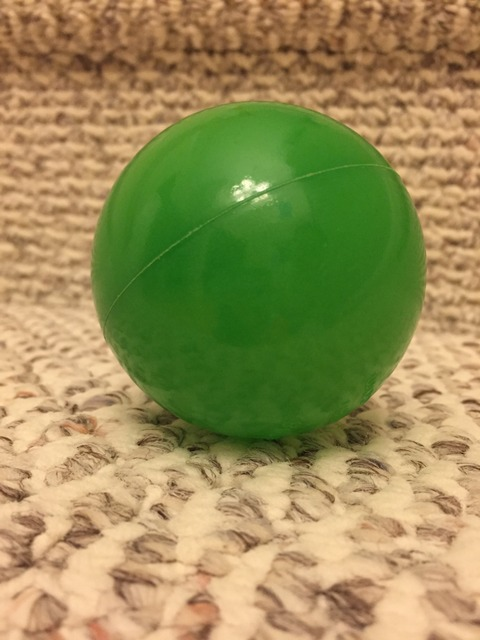Ball: (89, 100, 427, 438)
